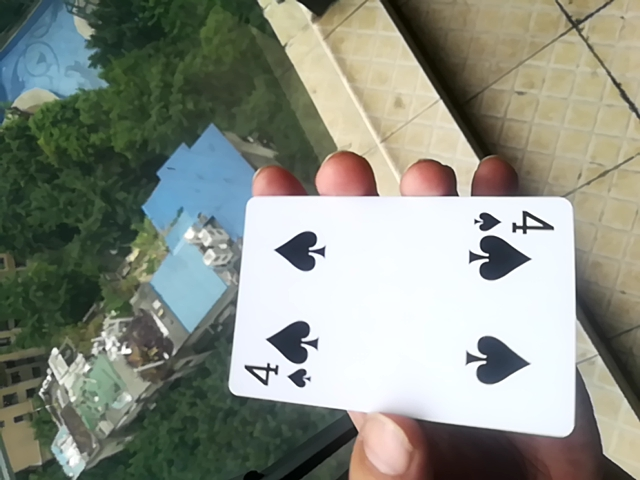ht 4: (221, 193, 580, 440)
